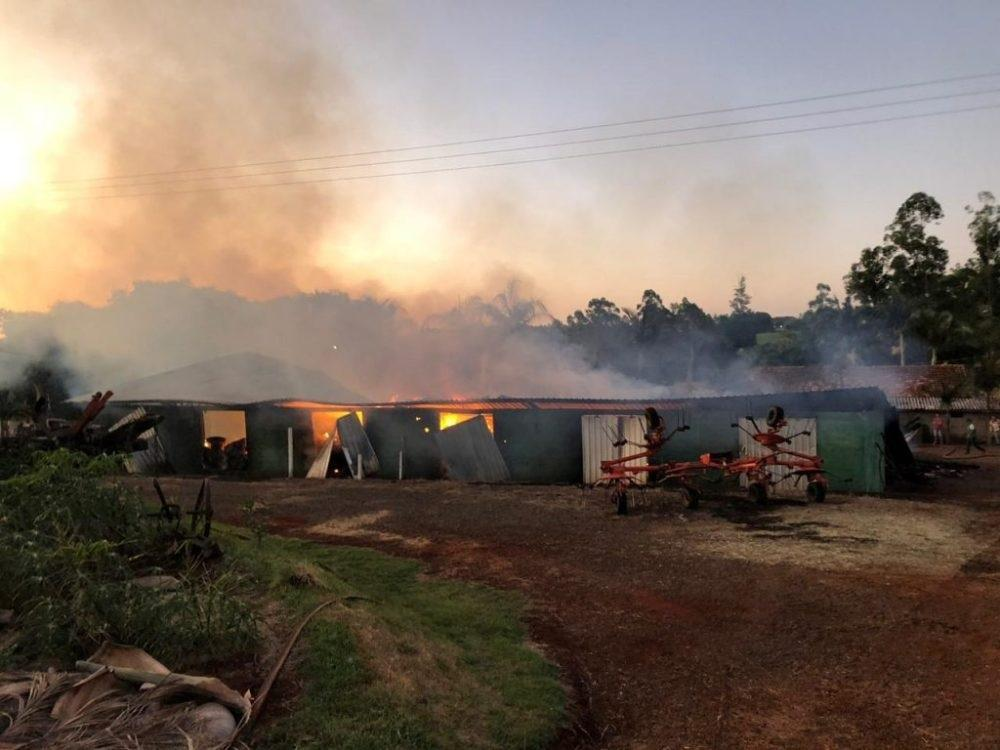smoke: (150, 90, 258, 232)
